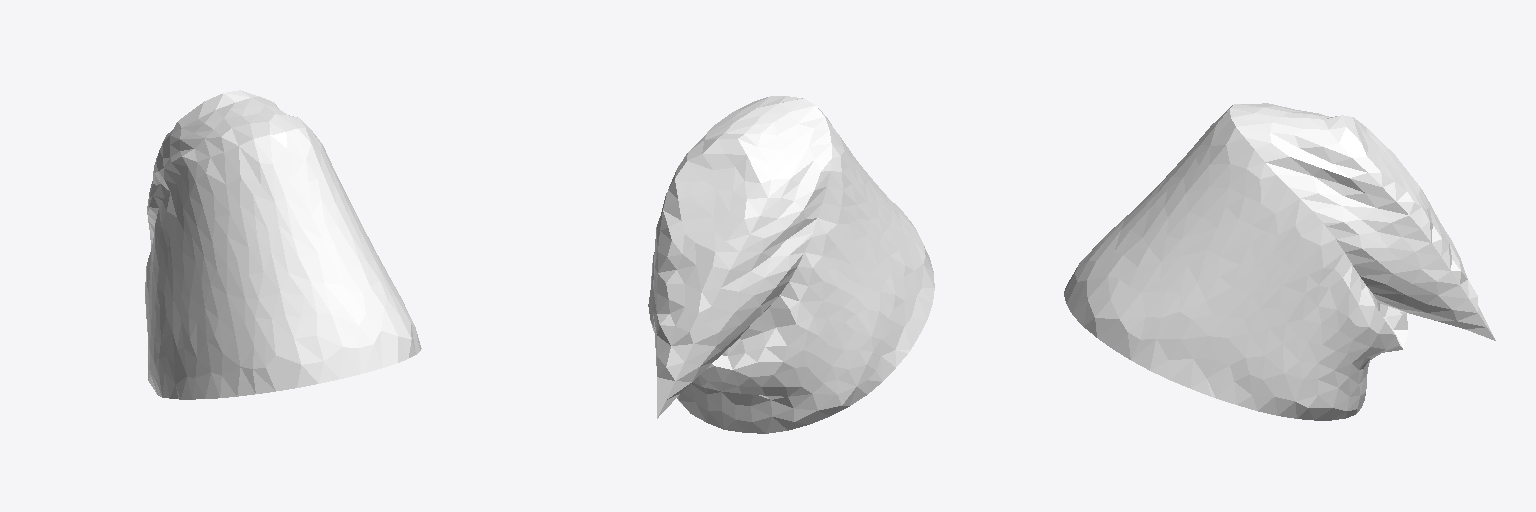
The model's file is donfernando_hat.obj.
3 renders of one model, left to right at view 1: azimuth 30°, elevation 25°; view 2: azimuth 150°, elevation 25°; view 3: azimuth 270°, elevation 25°, orthographic.
Visible parts, largest first — view 1: object; view 2: object; view 3: object.
Part boxes in pixels (left/top/right/bottom): object: left=145, top=90, right=421, bottom=399; object: left=648, top=96, right=934, bottom=433; object: left=1064, top=103, right=1495, bottom=420.
Bounding box in the file's own units: 2096 × 2631 × 3601.